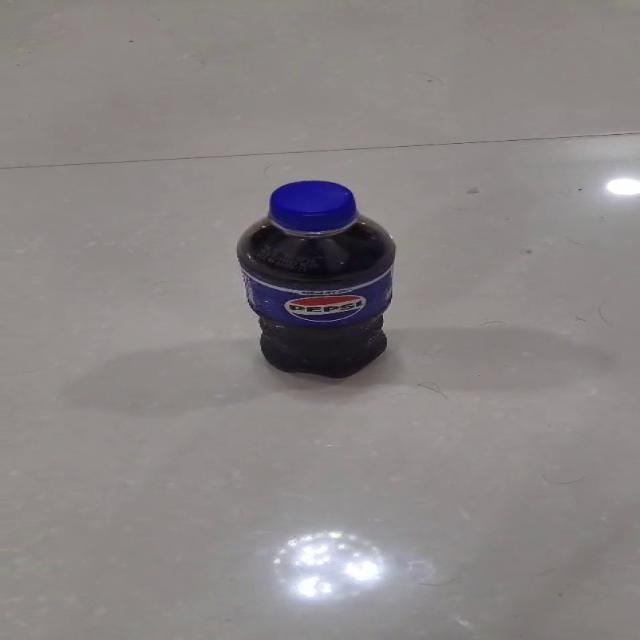plastic: (235, 179, 396, 379)
